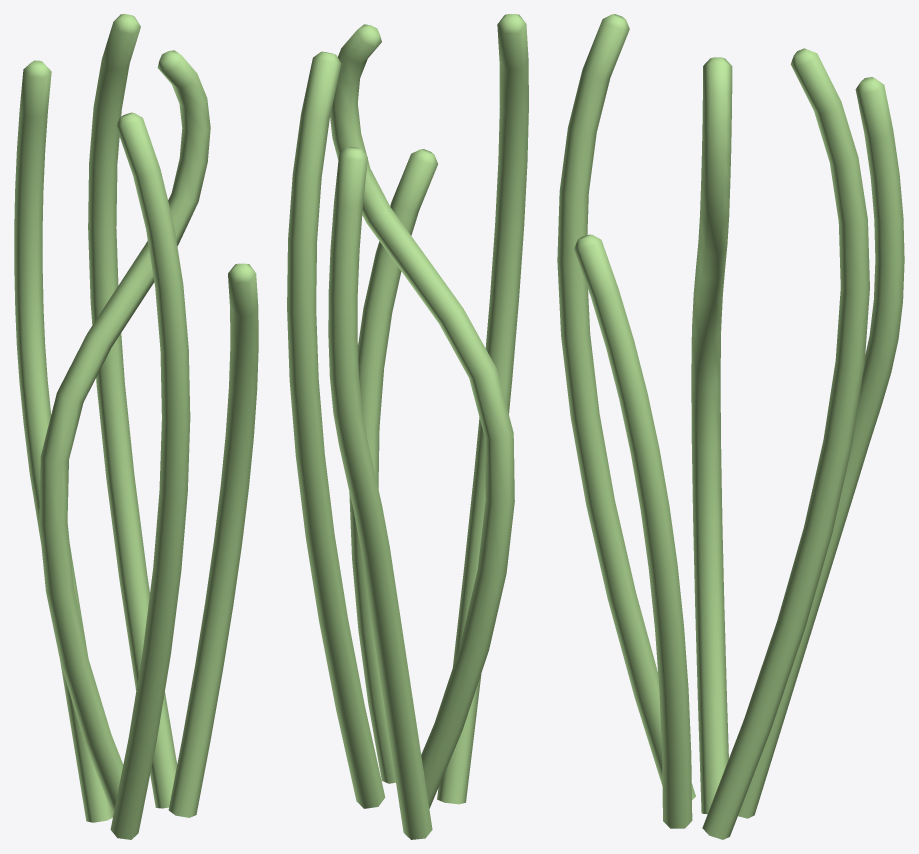
The model's file is Coral_A.obj.
The picture shows the model from 3 angles, left to right: view 1: azimuth 30°, elevation 25°; view 2: azimuth 150°, elevation 25°; view 3: azimuth 270°, elevation 25°; orthographic projection. The views are drawn at different scales.
Visible parts, largest first — view 1: Coral_A; view 2: Coral_A; view 3: Coral_A.
Part boxes in pixels (<box>): Coral_A: <box>14,14,258,839</box>; Coral_A: <box>287,14,528,839</box>; Coral_A: <box>557,14,904,839</box>.
Size of the model in its own units: 39.75 by 164 by 65.04.
